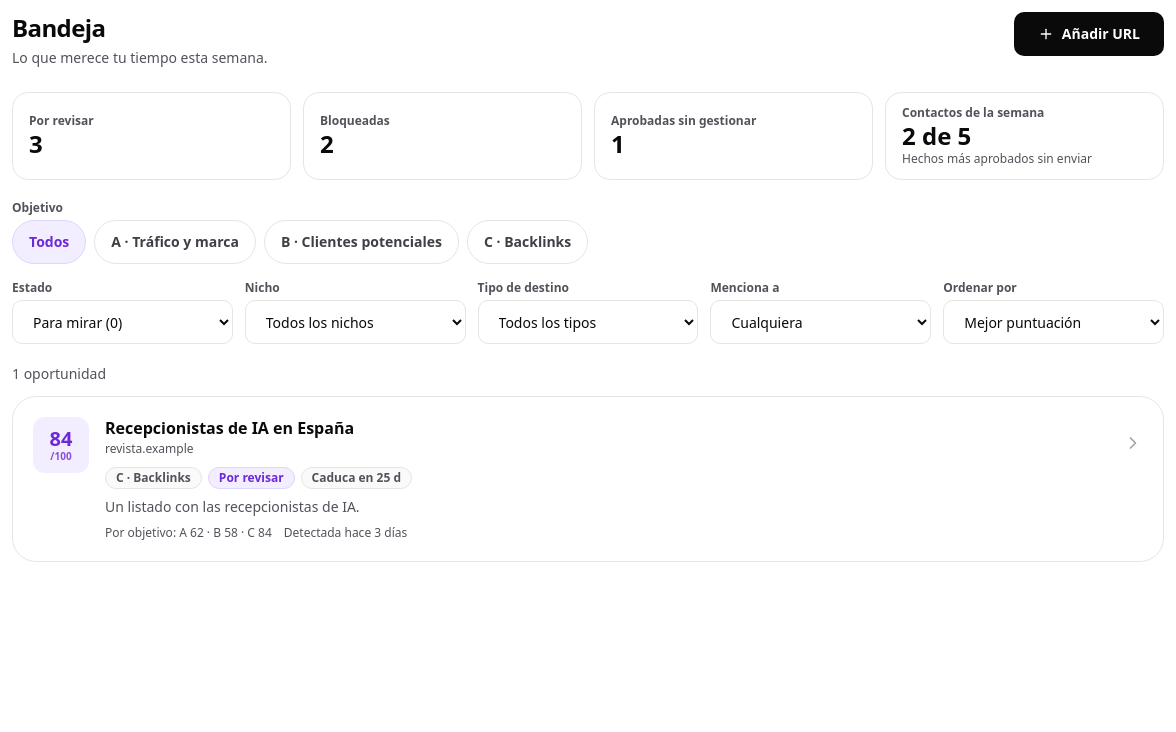
Bandeja · filtro «Menciona a» › ofrece a los competidores confirmados (no a los propuestos) y filtra por su dominio
This screenshot has width=1176, height=732.
Select "Fonio" in the dropdown labelled "Menciona a" at [821, 322], box [710,300,931,344]
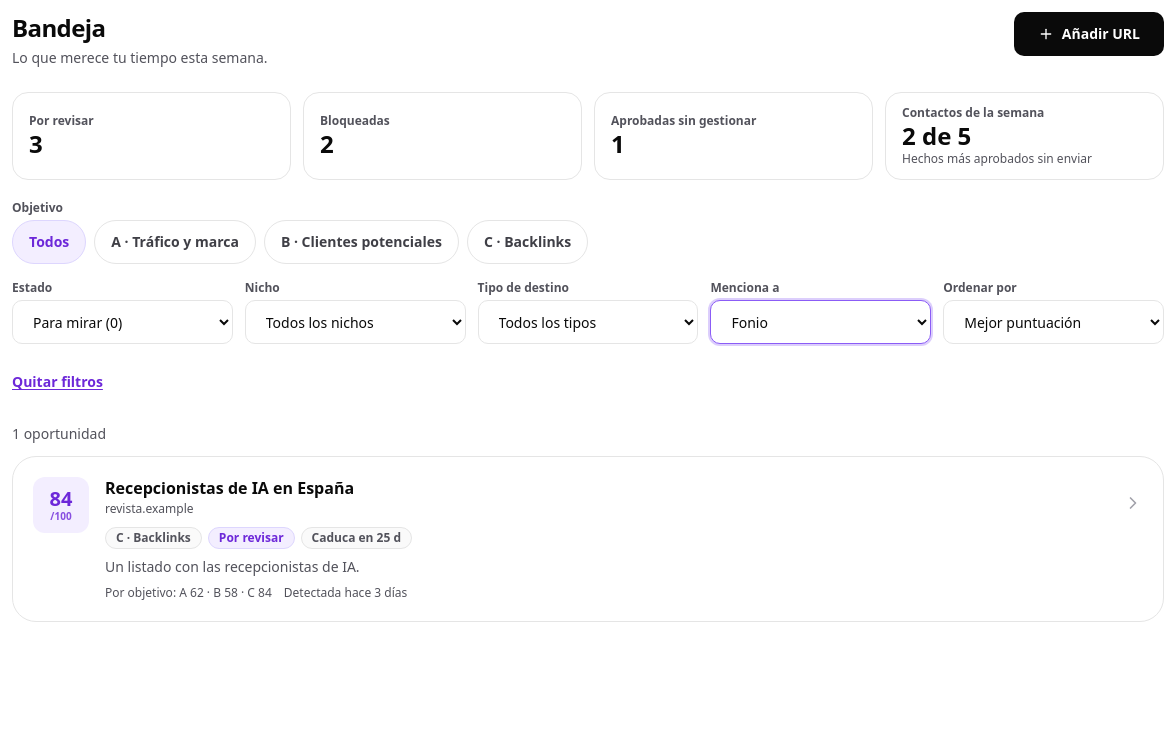
Select "Cualquiera" in the dropdown labelled "Menciona a" at [821, 322], box [710,300,931,344]
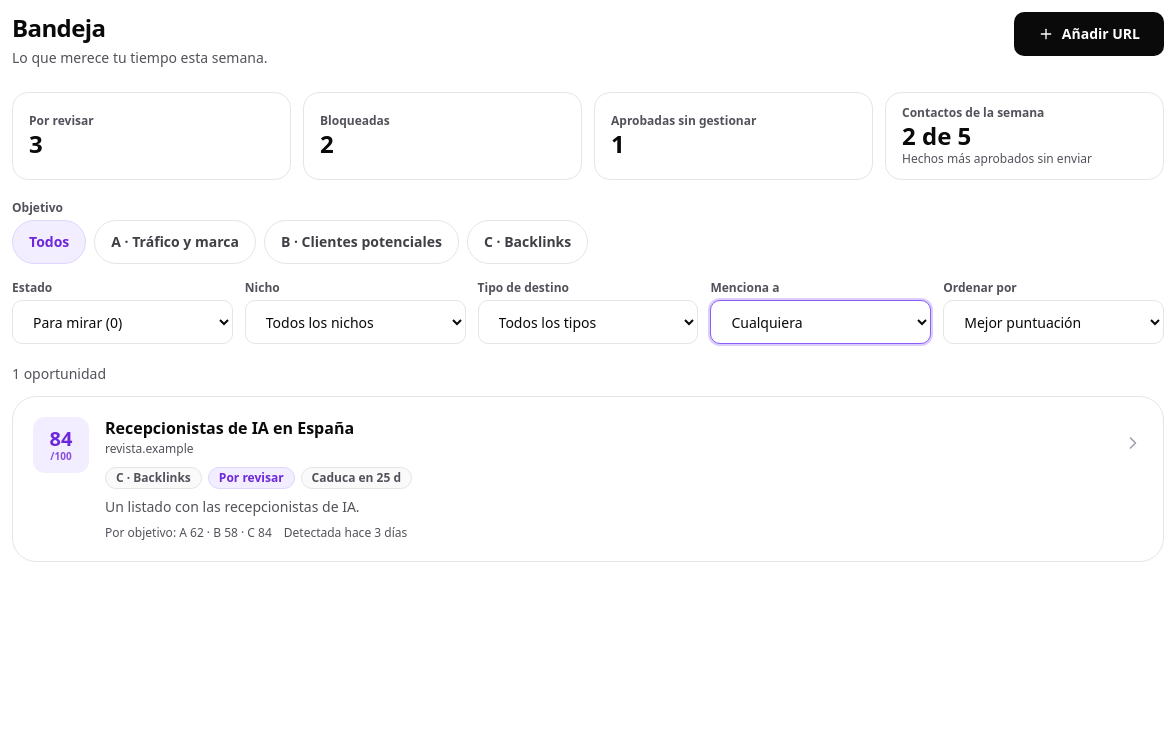
Expected: the button "Quitar filtros" is gone
